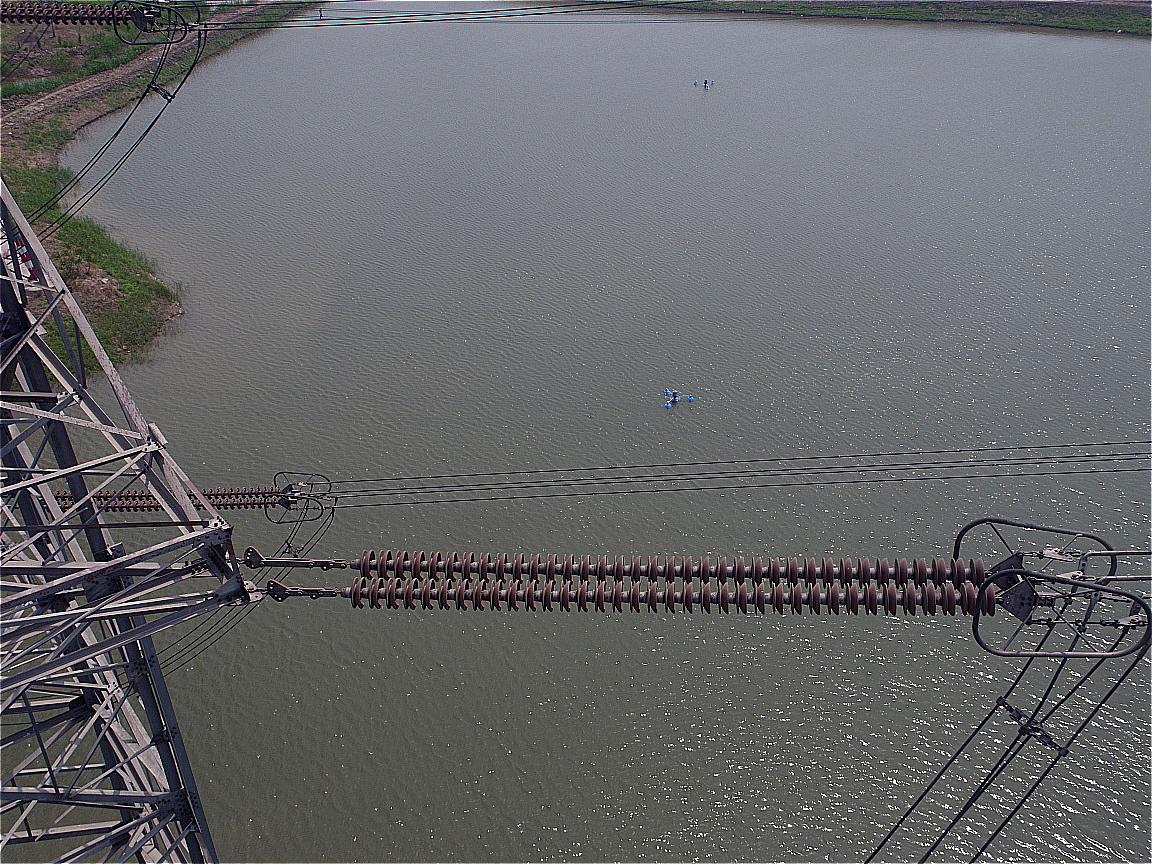insultor1: (48, 483, 283, 513), (1, 1, 130, 26)
insultor2: (349, 548, 999, 616)
